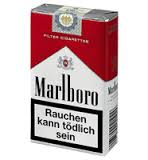marlboro: (33, 20, 104, 147)
